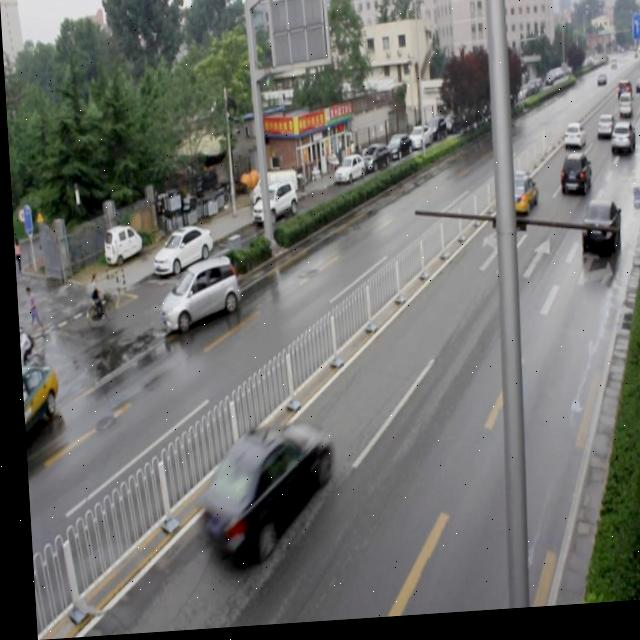car: (191, 425, 332, 570), (156, 260, 235, 334), (574, 203, 619, 265), (493, 172, 534, 232), (554, 158, 587, 204), (605, 128, 631, 164), (559, 127, 582, 159)
